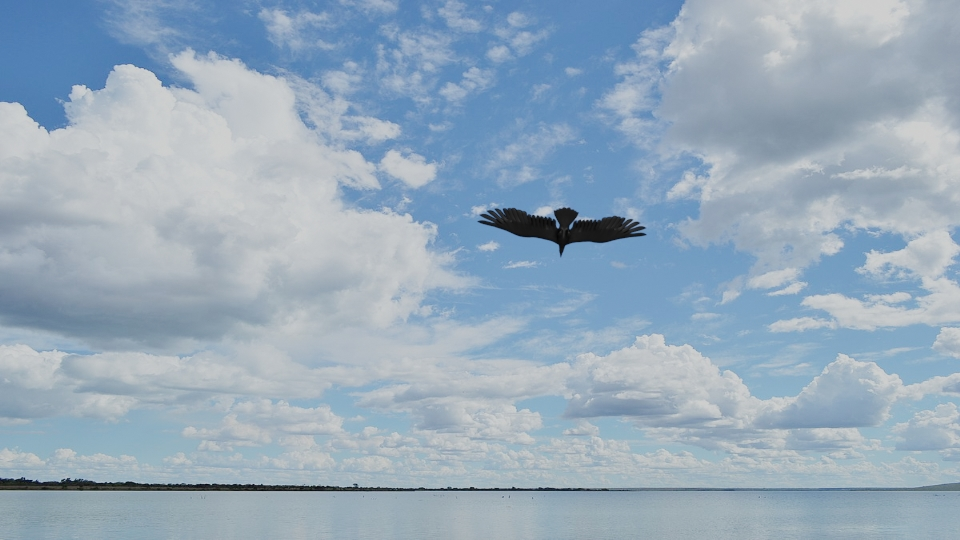bird: (472, 197, 648, 256)
